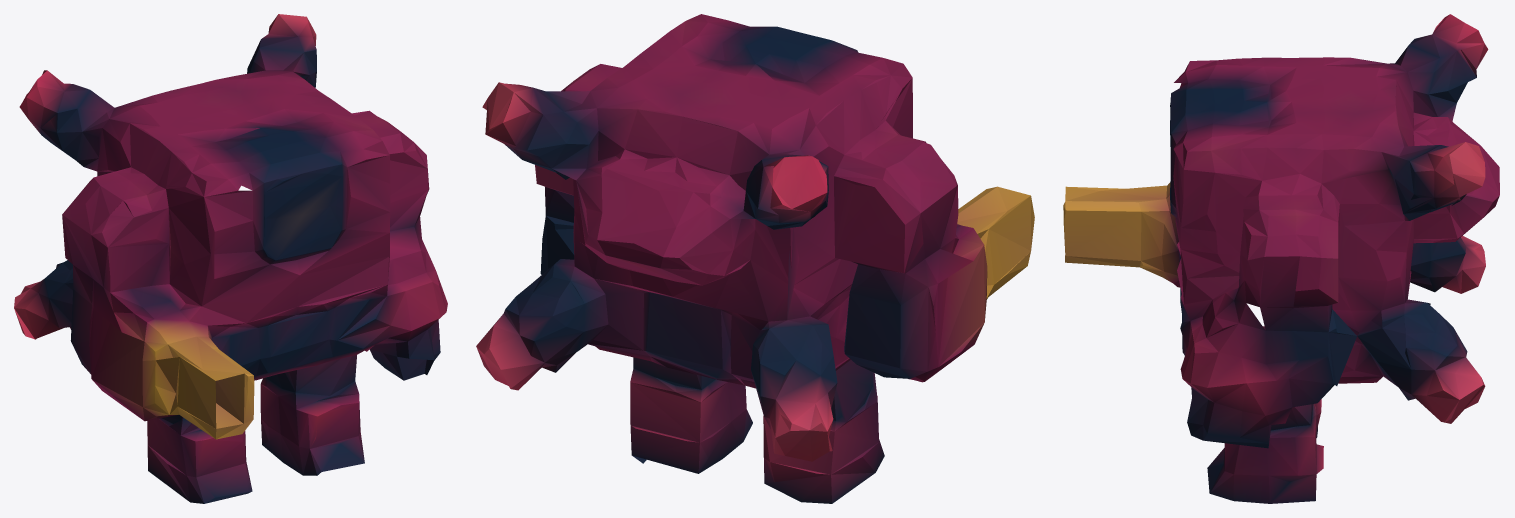
The model's file is m-zumba-jefe.glb.
3 renders of one model, left to right at view 1: azimuth 30°, elevation 25°; view 2: azimuth 150°, elevation 25°; view 3: azimuth 270°, elevation 25°, orthographic. The views are drawn at different scales.
Bounding box in the file's own units: 1.78 × 1.82 × 1.9.
